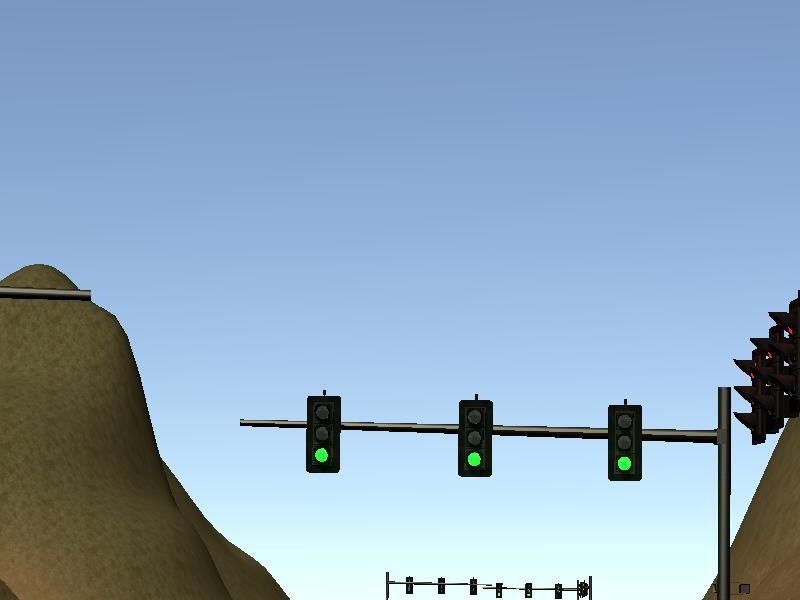green: (306, 395, 341, 473), (608, 405, 642, 482), (459, 400, 492, 478)
